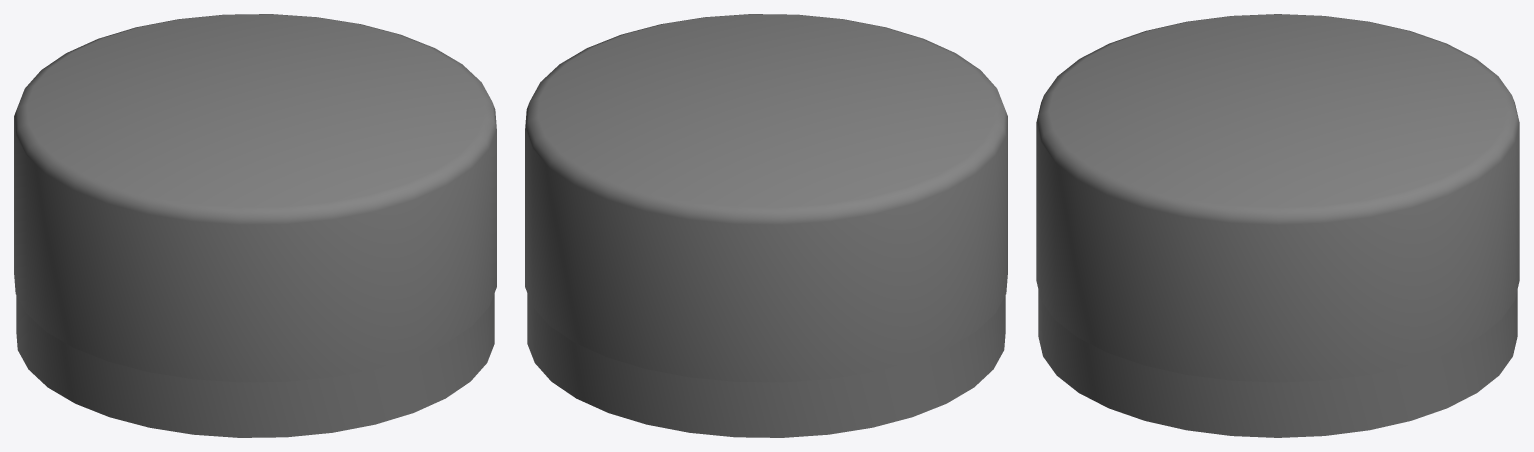
File: modelo7.glb
3 views of the same model, side by side, from view 1: azimuth 30°, elevation 25°; view 2: azimuth 150°, elevation 25°; view 3: azimuth 270°, elevation 25° (orthographic).
Parts seen in each view (by area): view 1: node_id3; view 2: node_id3; view 3: node_id3.
Part boxes in pixels (x1,y1,x2,y2): node_id3: (14, 14, 496, 437); node_id3: (525, 14, 1007, 437); node_id3: (1036, 14, 1519, 437).
Bounding box in the file's own units: 0.512 × 0.2643 × 0.512.
Materials: 1 (1 with a texture image).
